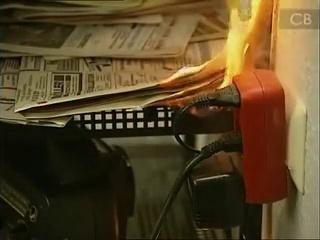Fire: (125, 1, 262, 119)
